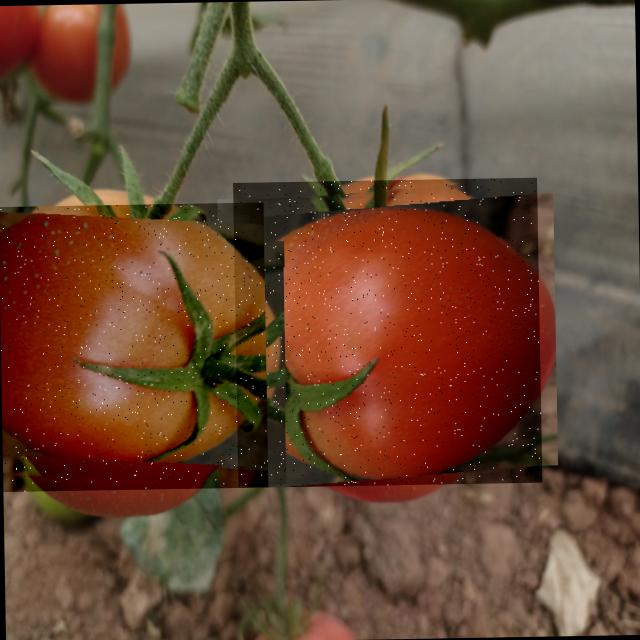Ripe Tomato: (233, 178, 542, 488), (0, 202, 268, 492)
